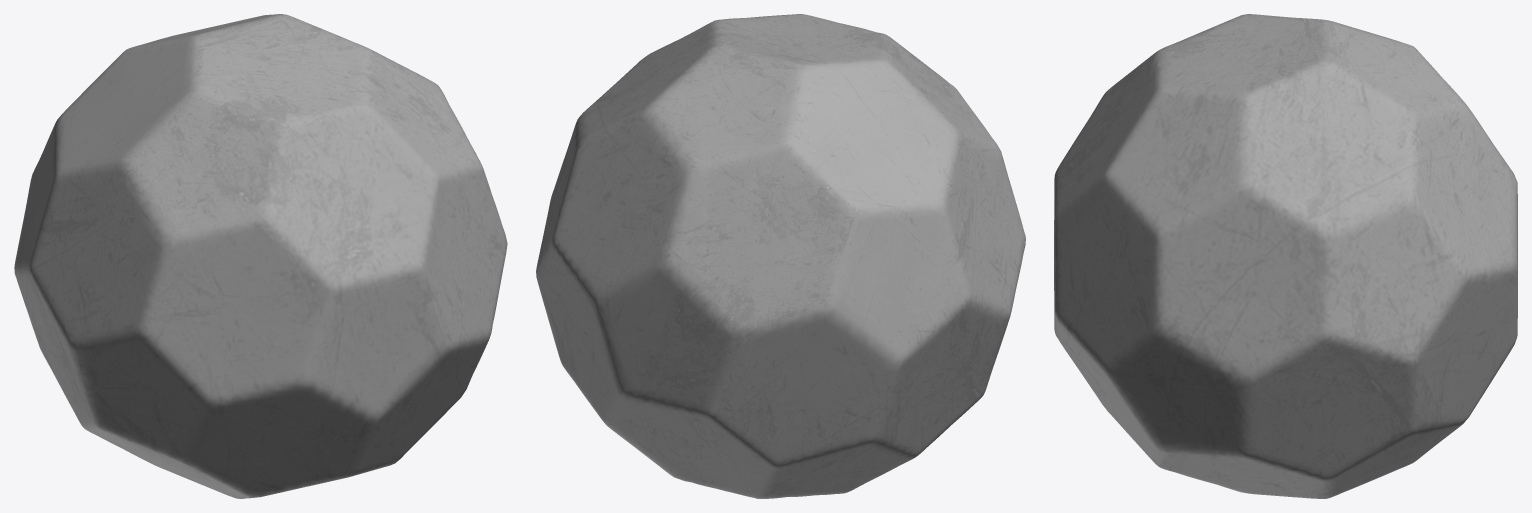
File: TetraSmall.glb
The picture shows the model from 3 angles, left to right: view 1: azimuth 30°, elevation 25°; view 2: azimuth 150°, elevation 25°; view 3: azimuth 270°, elevation 25°; orthographic projection.
Visible parts, largest first — view 1: TetraSmall; view 2: TetraSmall; view 3: TetraSmall.
Boxes of the visible parts, x1=… form: TetraSmall: x1=14, y1=14, x2=507, y2=498; TetraSmall: x1=536, y1=14, x2=1025, y2=498; TetraSmall: x1=1054, y1=14, x2=1517, y2=498.
Size of the model in its own units: 1.93 by 1.9 by 1.85.
Materials: 1 (1 with a texture image).
